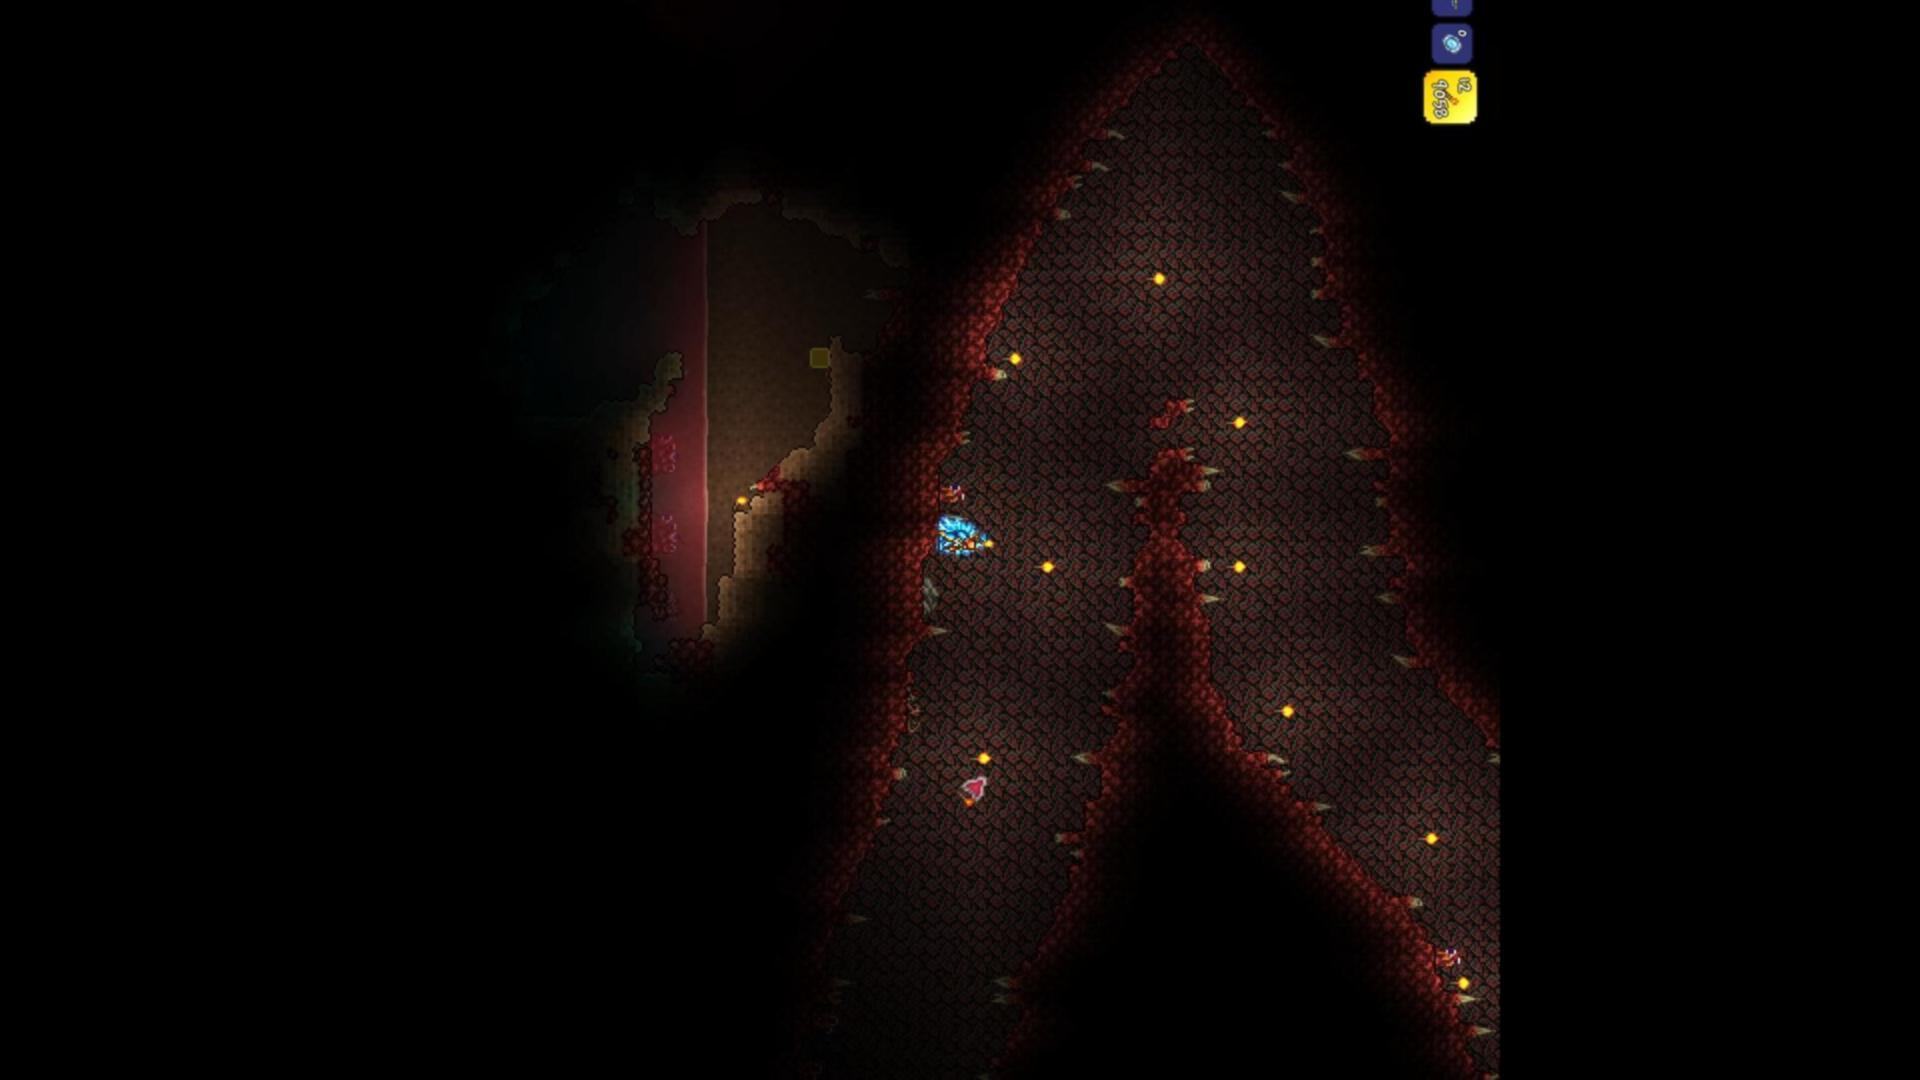mirror: (1436, 29, 1464, 57)
